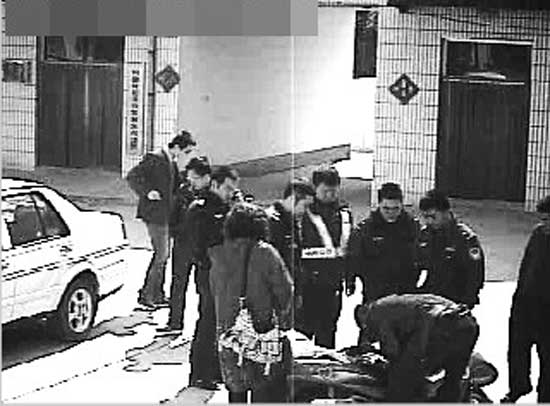10+: (118, 112, 550, 406)
